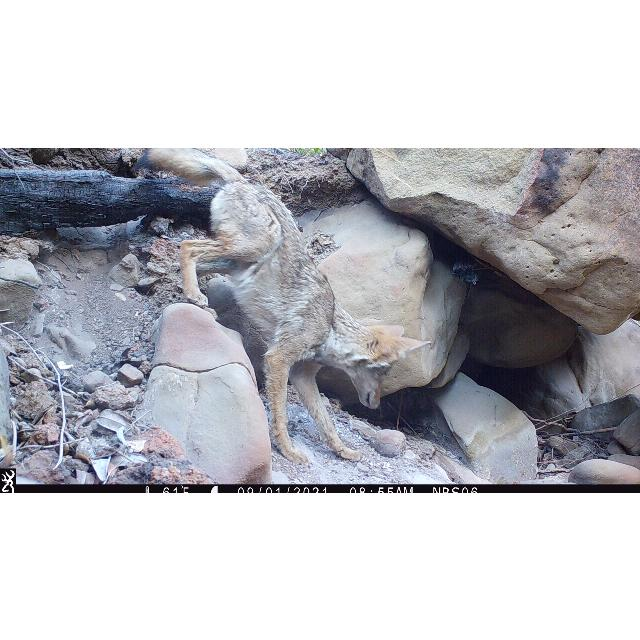animals: (132, 147, 432, 465)
